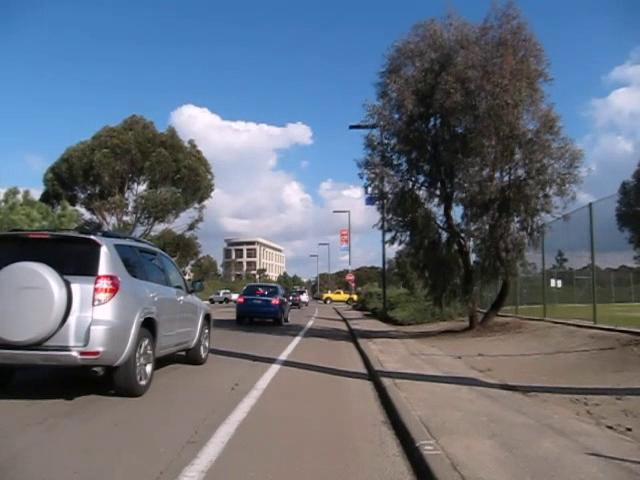stop: (344, 271, 355, 284)
